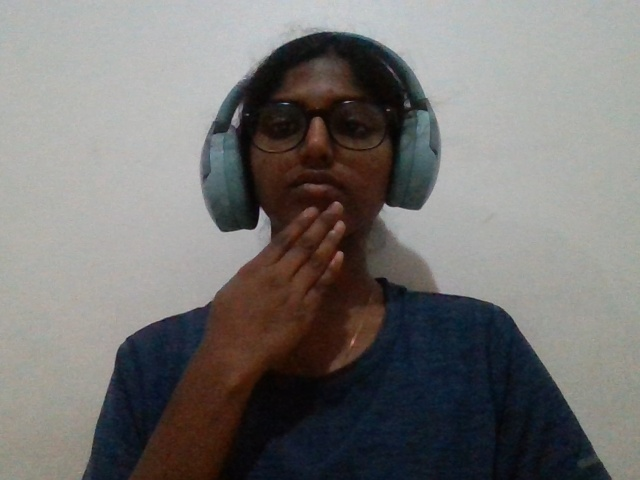Thanks: (177, 164, 421, 455)
